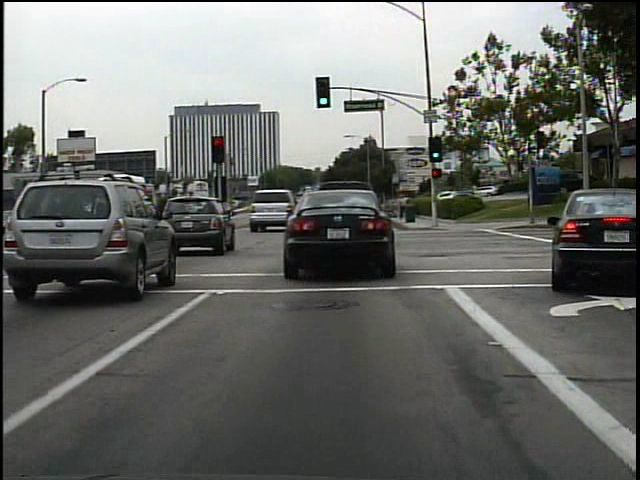person: (397, 192, 409, 222)
